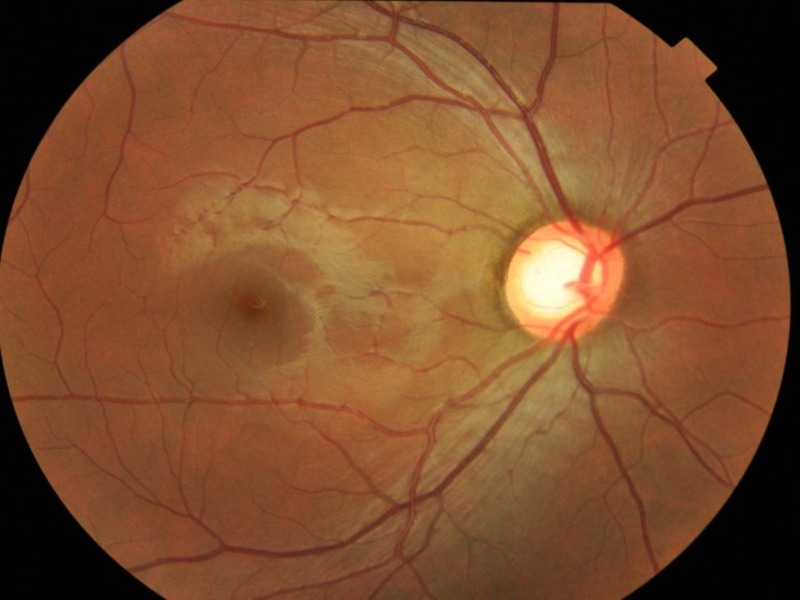Optic Cup: (527, 244, 599, 317)
Optic Disc: (503, 219, 624, 341)
